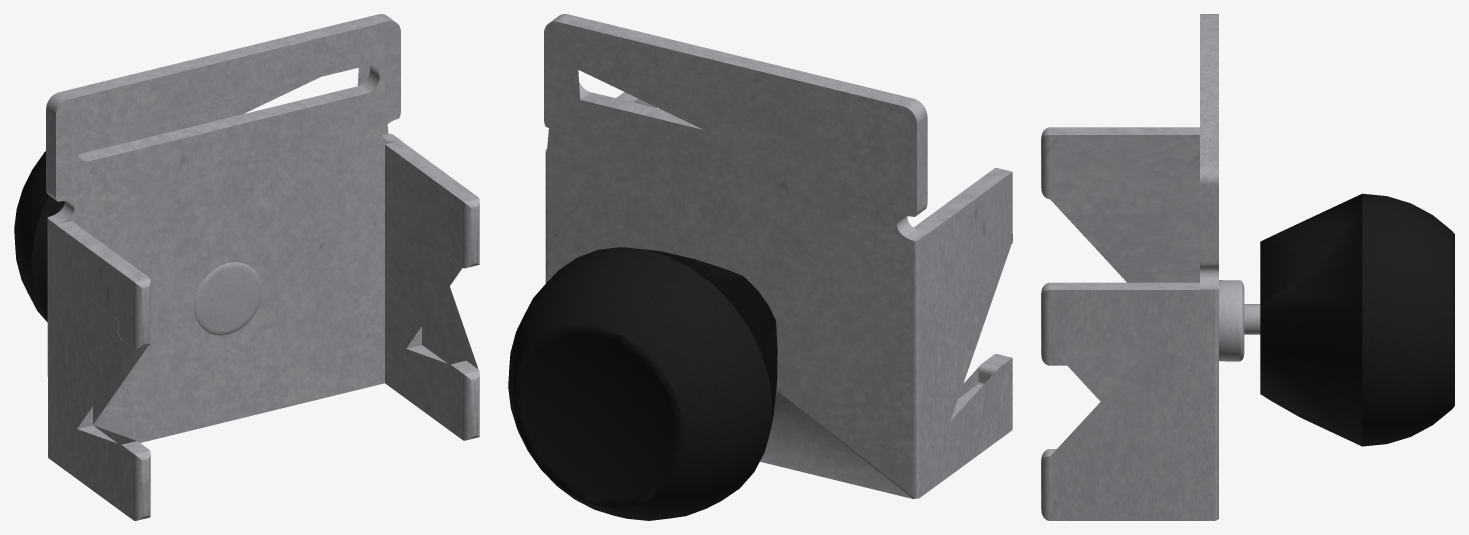
File: strap_clamp.fbx
3 views of the same model, side by side, from view 1: azimuth 30°, elevation 25°; view 2: azimuth 150°, elevation 25°; view 3: azimuth 270°, elevation 25° (orthographic). The views are drawn at different scales.
Visible parts, largest first — view 1: clamp, knob; view 2: clamp, knob; view 3: clamp, knob, screw.
Boxes of the visible parts, box(x1,y1,x2,y2) form: clamp: box(46, 14, 479, 520); knob: box(14, 151, 64, 322); clamp: box(544, 14, 1012, 498); knob: box(508, 247, 777, 520); clamp: box(1041, 14, 1244, 520); knob: box(1260, 193, 1454, 446); screw: box(1244, 304, 1260, 334).
Bounding box in the file's own units: 0.065 × 0.065 × 0.0698.
Materials: 2 (2 with a texture image).
